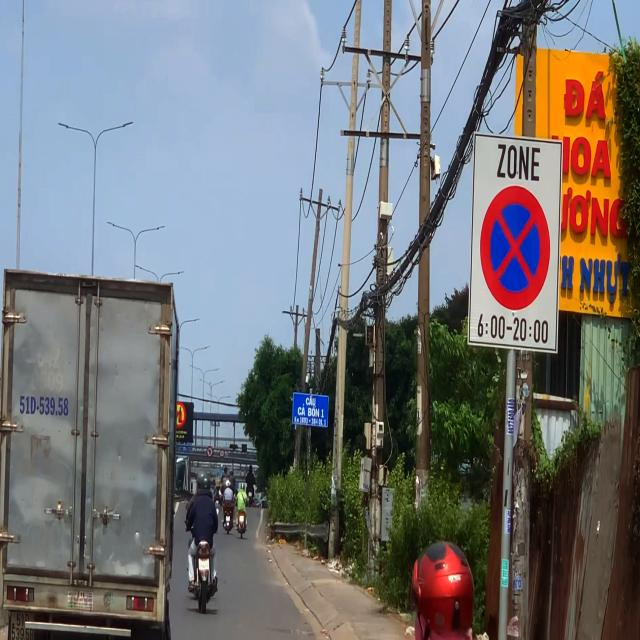Cam dung va do: (478, 182, 553, 314)
